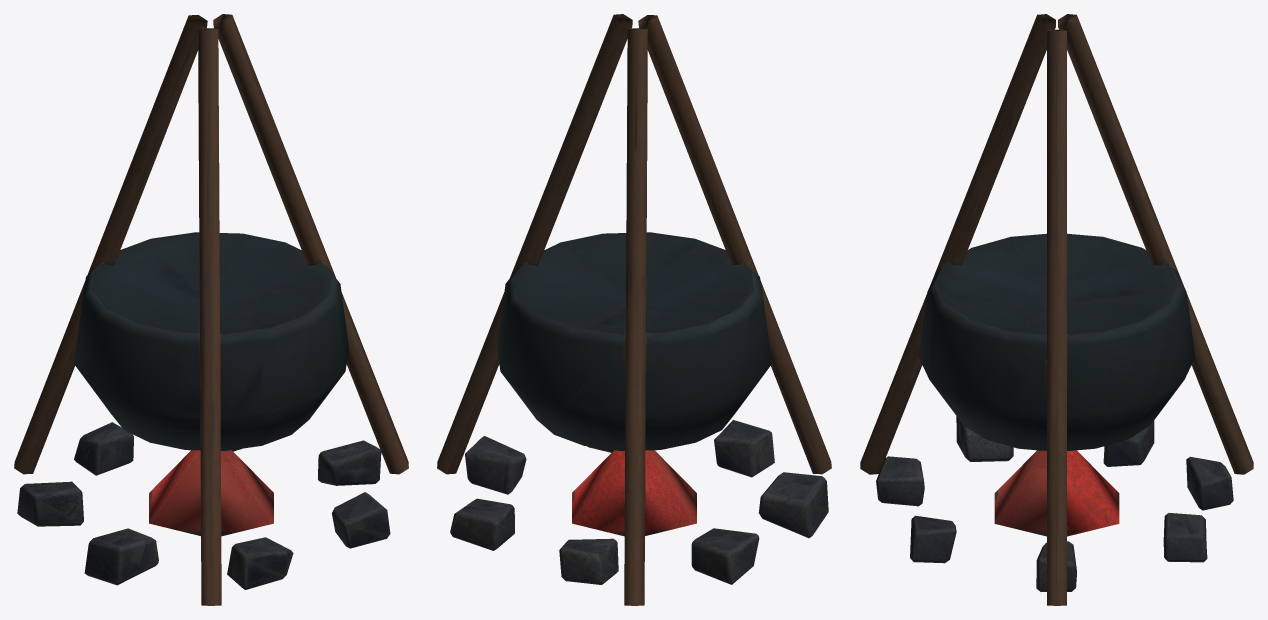
The model's file is cauldron.glb.
3 renders of one model, left to right at view 1: azimuth 30°, elevation 25°; view 2: azimuth 150°, elevation 25°; view 3: azimuth 270°, elevation 25°, orthographic.
Visible parts, largest first — view 1: cauldron; view 2: cauldron; view 3: cauldron.
Boxes of the visible parts, <box> form: cauldron: <box>14,14,408,605</box>; cauldron: <box>437,14,831,605</box>; cauldron: <box>860,14,1253,605</box>.
Bounding box in the file's own units: 1.4 × 1.91 × 1.36.
Materials: 1 (1 with a texture image).
